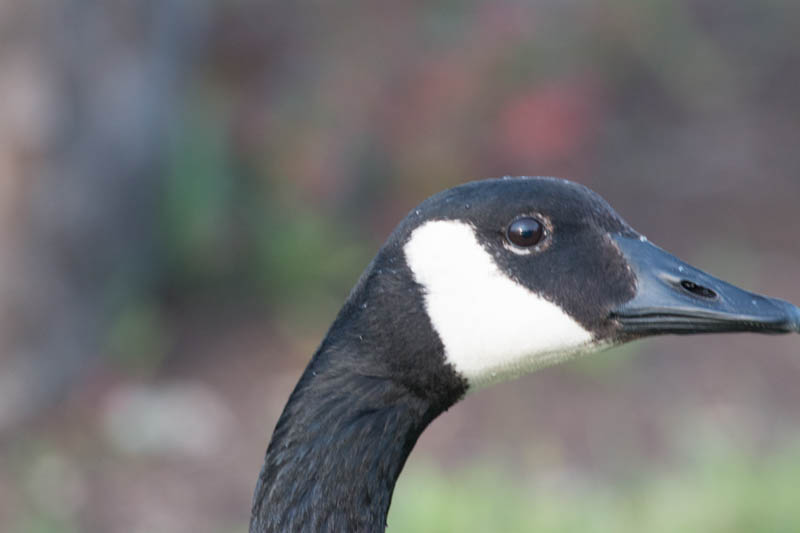goose-head: (363, 177, 800, 394)
